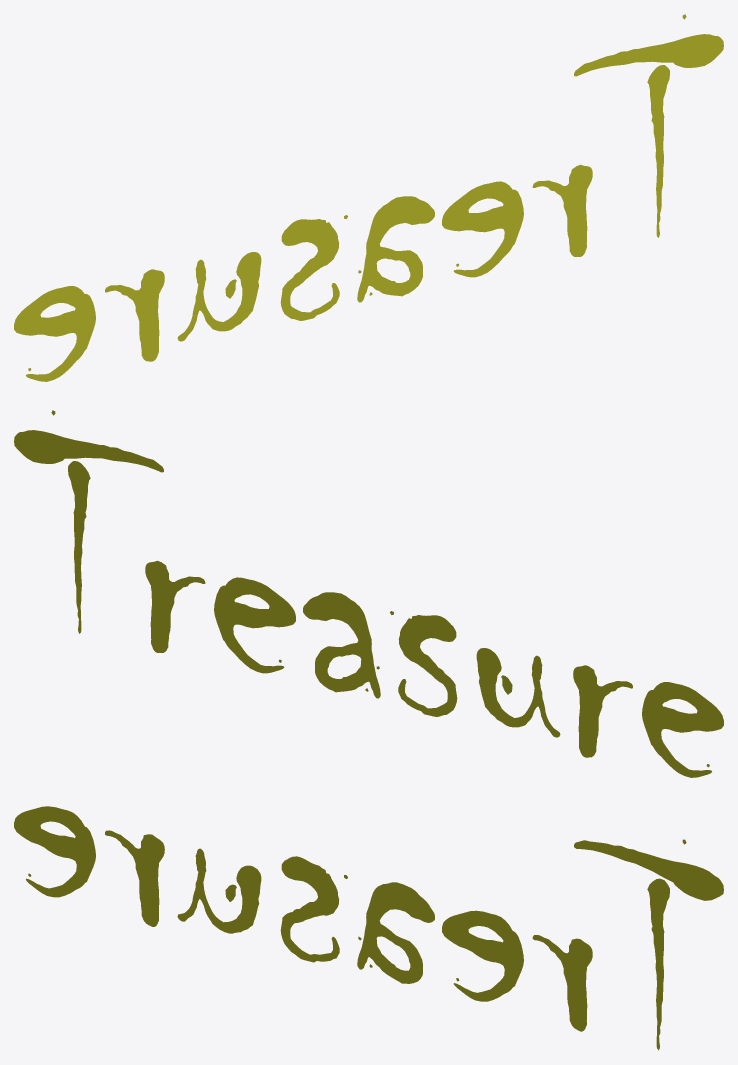
File: TreasureMenuTextButtonText.obj
3 renders of one model, top to bottom at view 1: azimuth 30°, elevation 25°; view 2: azimuth 150°, elevation 25°; view 3: azimuth 330°, elevation 25°, orthographic.
Parts seen in each view (by area): view 1: TreasureMenuTextButtonText; view 2: TreasureMenuTextButtonText; view 3: TreasureMenuTextButtonText.
Boxes of the visible parts, box(x1,y1,x2,y2) form: TreasureMenuTextButtonText: box(14, 14, 723, 381); TreasureMenuTextButtonText: box(14, 410, 723, 777); TreasureMenuTextButtonText: box(14, 806, 723, 1050).
Bounding box in the file's own units: 2.15 × 0.6301 × 0.
